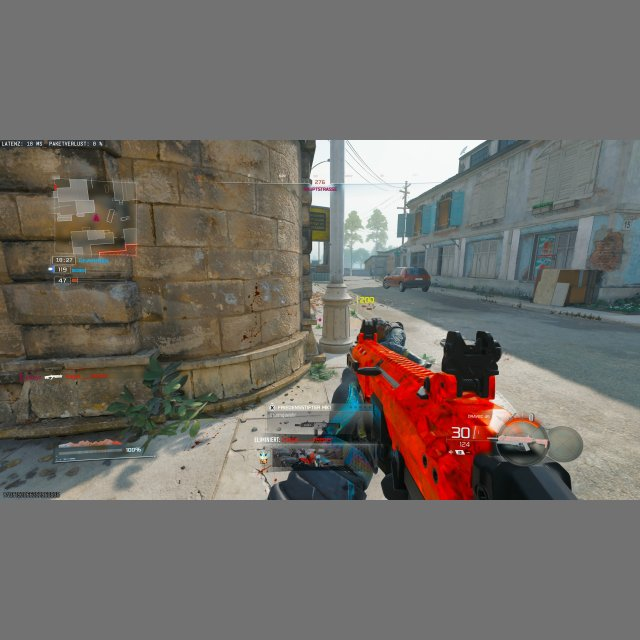player: (357, 316, 406, 350), (311, 289, 325, 326)
